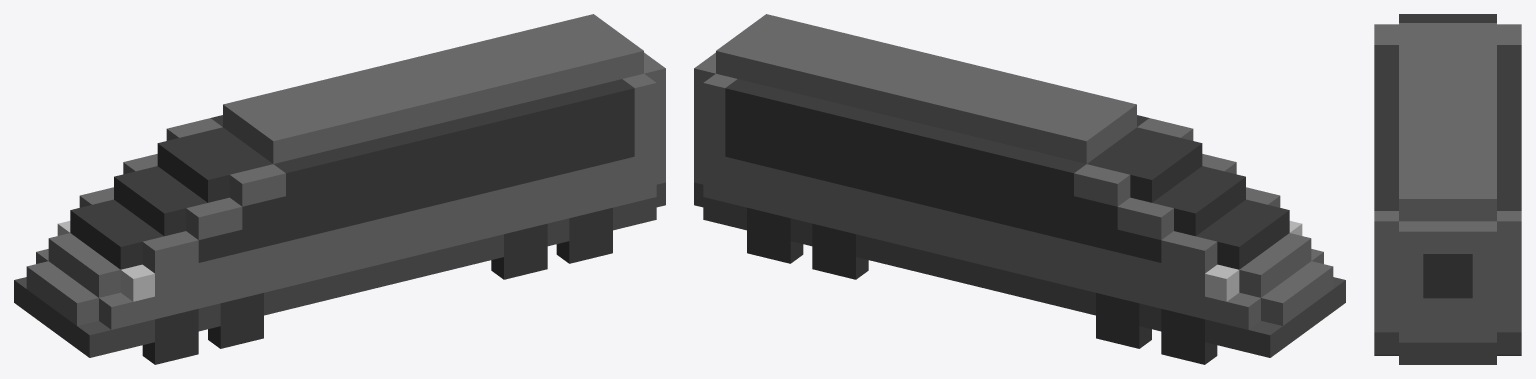
The model's file is train-v1-grey.gltf.
3 views of the same model, side by side, from view 1: azimuth 30°, elevation 25°; view 2: azimuth 150°, elevation 25°; view 3: azimuth 270°, elevation 25° (orthographic). The views are drawn at different scales.
Parts seen in each view (by area): view 1: model, wheels; view 2: model, wheels; view 3: model.
Boxes of the visible parts, <box> form: model: <box>14,14,665,357</box>; wheels: <box>142,207,612,364</box>; model: <box>694,14,1345,357</box>; wheels: <box>747,207,1217,364</box>; model: <box>1374,14,1521,364</box>.
Size of the model in its own units: 2.7 by 0.8 by 0.6.
2 materials, 2 textured.
